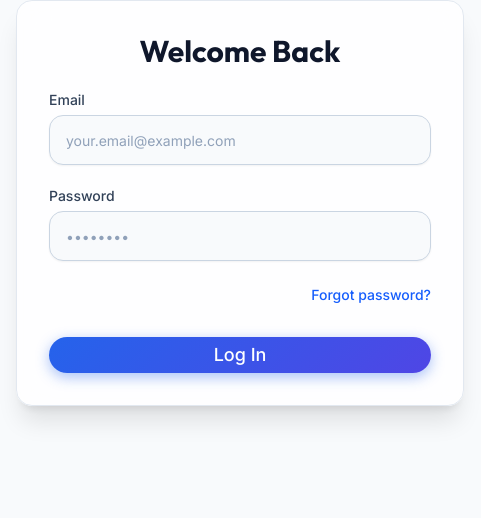
Scenario: Auth Web Frontend › LoginForm › displays error message when API returns 401
Type "test@example.com" into the field labelled "Email". click: (240,140)
box: [49,115,431,165]
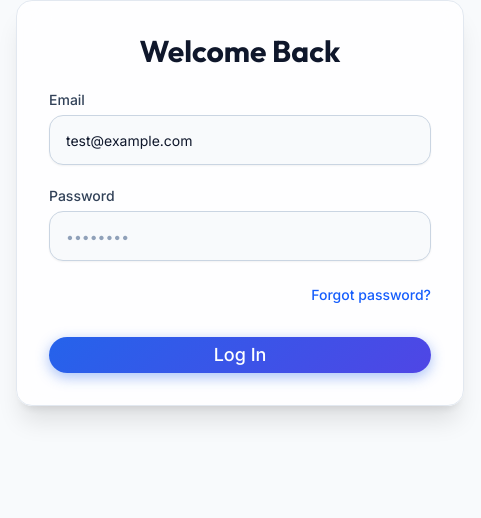
Type "wrongpass" into the password field labelled "Password". click: (240,236)
box: [49,211,431,261]
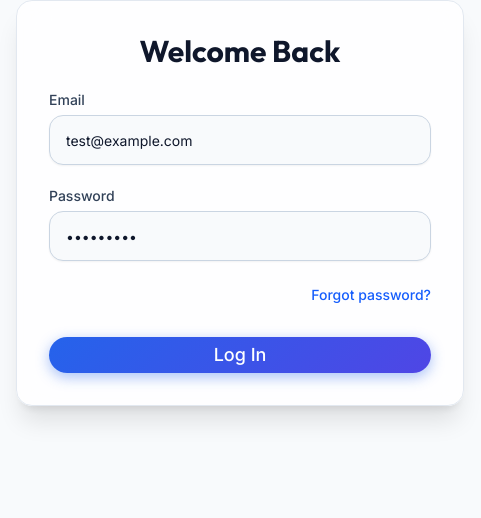
Click the button "Log In". click: (240,355)
box: [49,337,431,373]
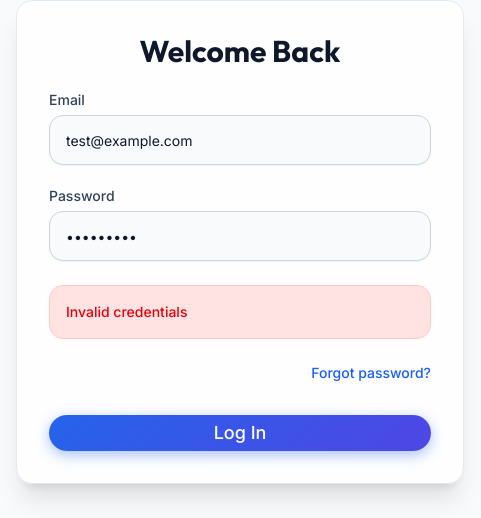
Expected: the text "Invalid credentials" is shown, [66,303,187,320]
